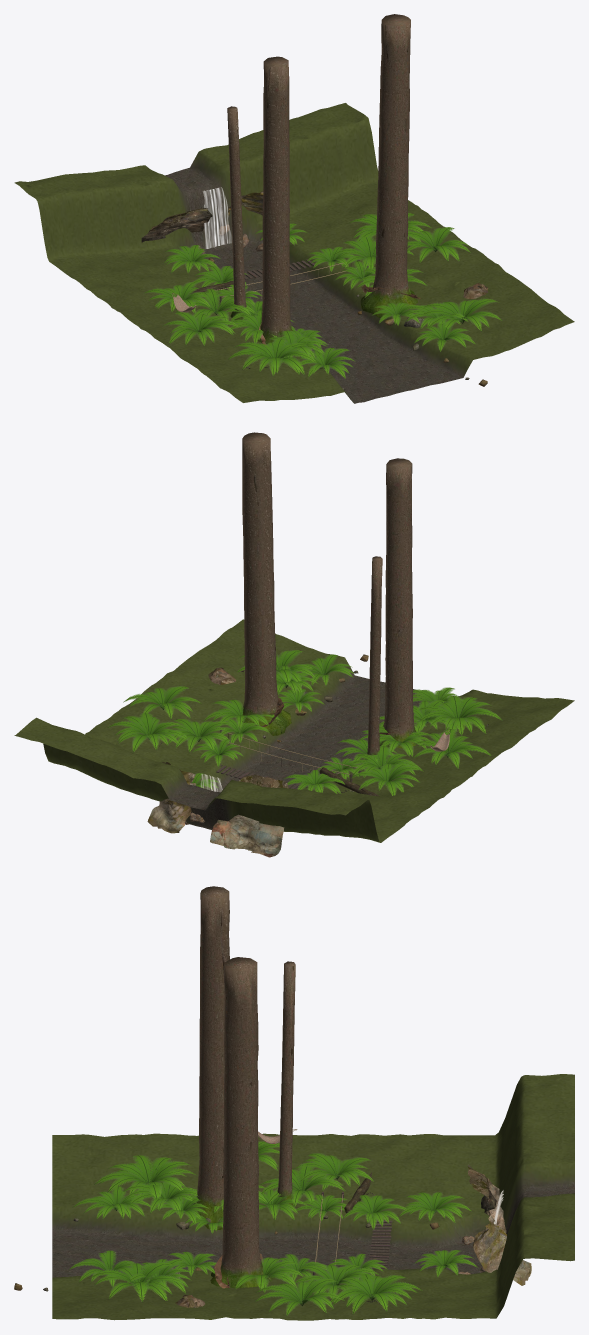
Rendered from diorama_low.glb.
3 renders of one model, top to bottom at view 1: azimuth 30°, elevation 25°; view 2: azimuth 150°, elevation 25°; view 3: azimuth 270°, elevation 25°, orthographic. The views are drawn at different scales.
Visible parts, largest first — view 1: ground, bark, plant, rock, waterfall, bridge; view 2: ground, bark, plant, rock, bridge; view 3: ground, bark, plant, rock, bridge.
Boxes of the visible parts, x1=… form: ground: x1=14, y1=103, x2=574, y2=403; bark: x1=191, y1=14, x2=488, y2=368; plant: x1=144, y1=213, x2=502, y2=378; rock: x1=141, y1=191, x2=487, y2=390; waterfall: x1=203, y1=187, x2=231, y2=248; bridge: x1=215, y1=259, x2=368, y2=305; ground: x1=14, y1=619, x2=574, y2=842; bark: x1=159, y1=432, x2=488, y2=792; plant: x1=107, y1=650, x2=502, y2=795; rock: x1=147, y1=654, x2=368, y2=857; bridge: x1=215, y1=730, x2=361, y2=789; ground: x1=52, y1=1074, x2=574, y2=1320; bark: x1=135, y1=886, x2=379, y2=1307; plant: x1=69, y1=1141, x2=477, y2=1316; rock: x1=14, y1=1164, x2=531, y2=1291; bridge: x1=313, y1=1192, x2=392, y2=1275.
Size of the model in its own units: 40.39 by 33.96 by 51.36.
Materials: 7 (7 with a texture image).
